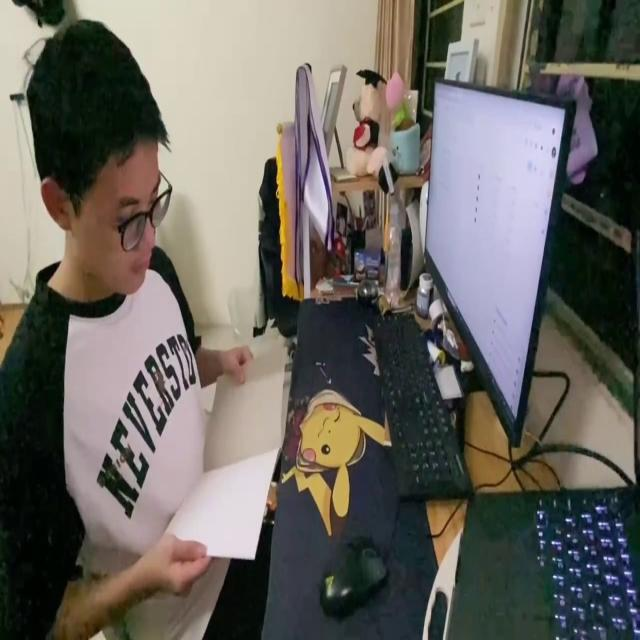book: (161, 342, 288, 576)
laptop: (422, 74, 578, 456), (440, 483, 640, 640)
student: (0, 15, 266, 640)
